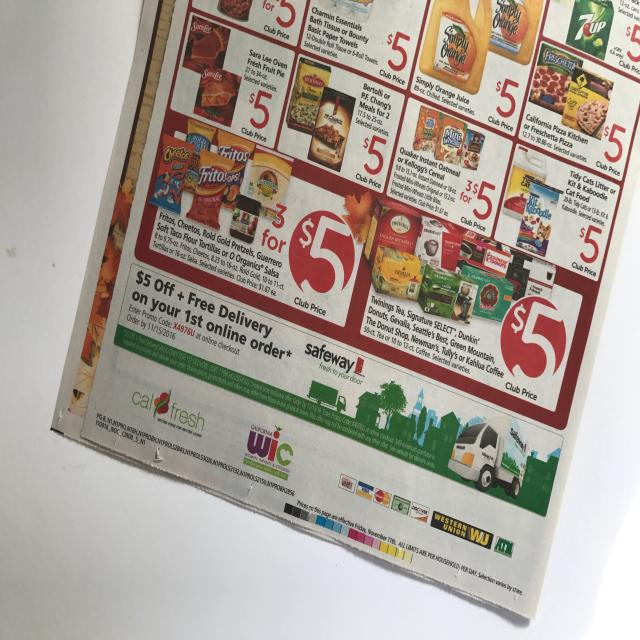paper: (51, 1, 639, 624)
